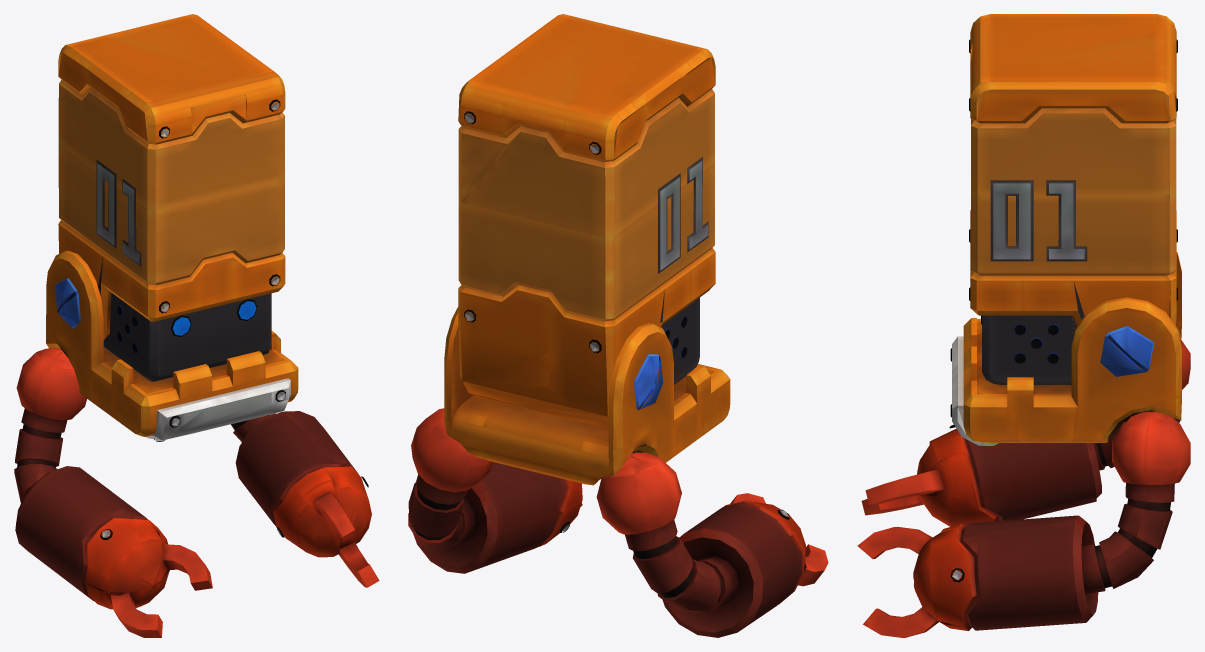
File: drone.glb
The picture shows the model from 3 angles, left to right: view 1: azimuth 30°, elevation 25°; view 2: azimuth 150°, elevation 25°; view 3: azimuth 270°, elevation 25°; orthographic projection. The views are drawn at different scales.
Parts seen in each view (by area): view 1: Chin_Material_0_Baked; view 2: Chin_Material_0_Baked; view 3: Chin_Material_0_Baked.
Part boxes in pixels (x1,y1,x2,y2): Chin_Material_0_Baked: (14,14,379,637); Chin_Material_0_Baked: (408,14,828,637); Chin_Material_0_Baked: (857,14,1190,637).
Size of the model in its own units: 0.8068 by 1.21 by 0.689.
1 material, 1 textured.
